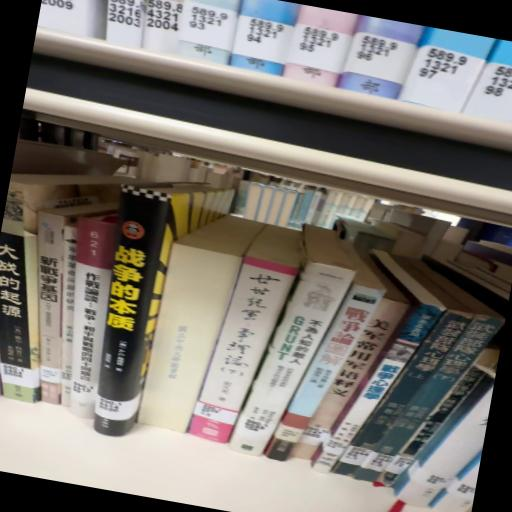backward: (138, 216, 265, 434)
book: (139, 210, 268, 450), (80, 191, 180, 447), (186, 239, 304, 455), (48, 214, 130, 413), (5, 215, 86, 405)
